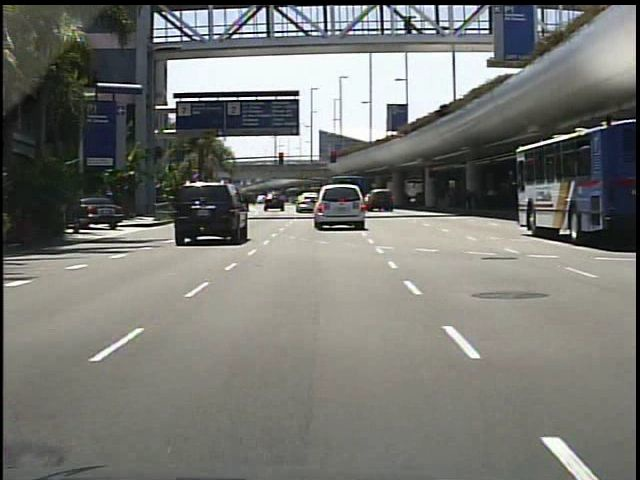person: (396, 16, 414, 43)
